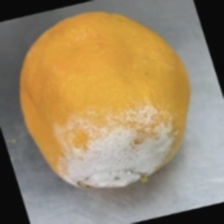orange: (11, 22, 173, 203)
